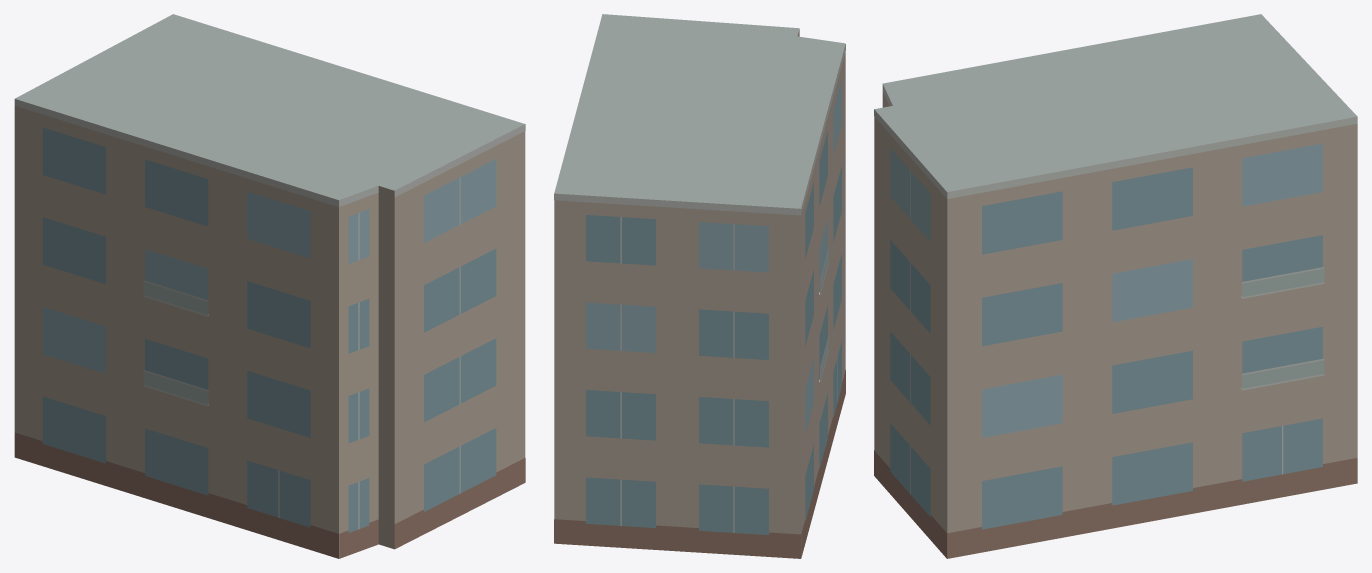
Rendered from survey-upis-32999816.glb.
3 renders of one model, left to right at view 1: azimuth 30°, elevation 25°; view 2: azimuth 150°, elevation 25°; view 3: azimuth 270°, elevation 25°, orthographic. The views are drawn at different scales.
Parts seen in each view (by area): view 1: survey-upis-32999816.tmp; view 2: survey-upis-32999816.tmp; view 3: survey-upis-32999816.tmp.
Boxes of the visible parts, x1,y1,x2,y2 form: survey-upis-32999816.tmp: (14, 14, 525, 558); survey-upis-32999816.tmp: (554, 14, 845, 558); survey-upis-32999816.tmp: (874, 14, 1357, 558).
Bounding box in the file's own units: 13.35 × 12.8 × 15.31.
